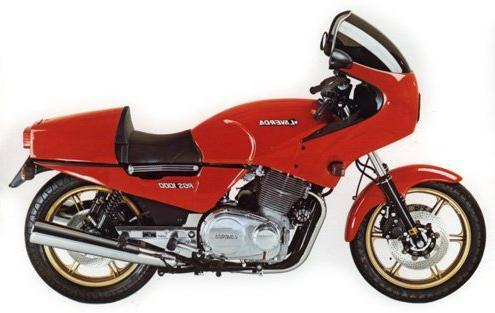motorcycle: (4, 1, 495, 307)
